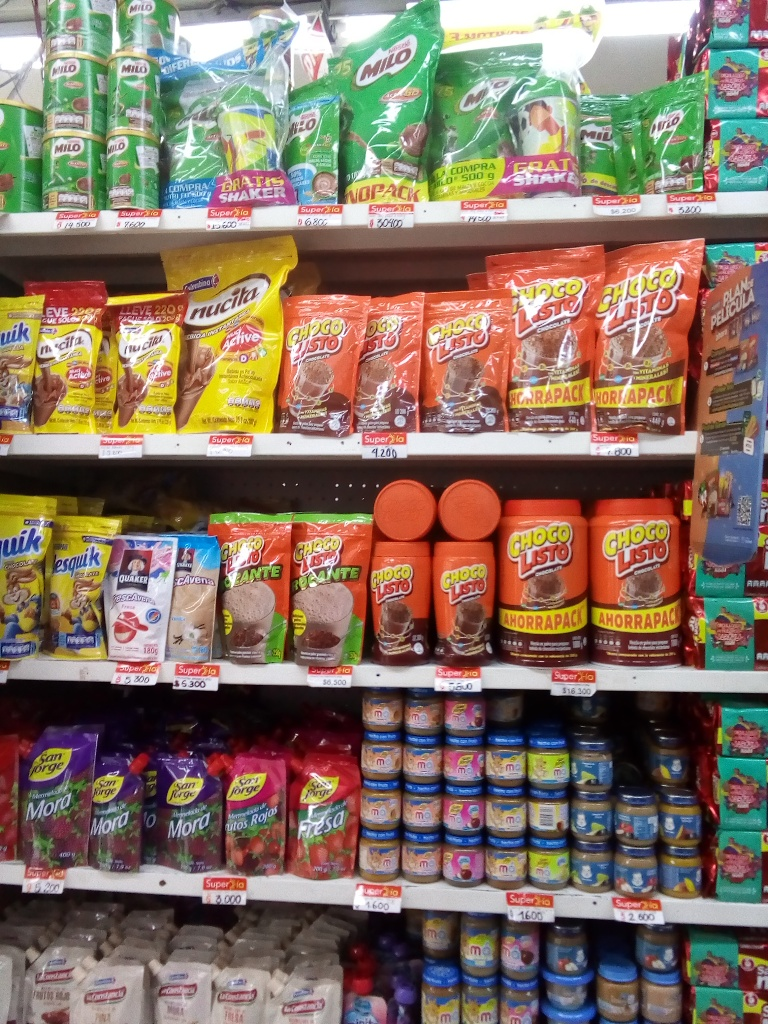COL0170102DYP50000: (212, 515, 290, 669)
COL0170103DYP44000: (486, 251, 592, 435)
COL0170103TRR00100: (506, 497, 591, 667)
COL0170103TRR30000: (364, 538, 429, 661)
COL0170203DYP10000: (639, 85, 713, 190)
COL0170203DYP25000: (575, 92, 628, 191)
COL0170203DYP50000: (428, 34, 524, 196)
COL0170203LAT20000: (111, 61, 162, 134)
COL0170203LAT40000: (41, 34, 105, 135)
COL0170205DYP20000: (288, 65, 352, 203)
COL0170205DYP50000: (160, 58, 224, 196)
COL0170303DYP20000: (40, 516, 111, 660)
